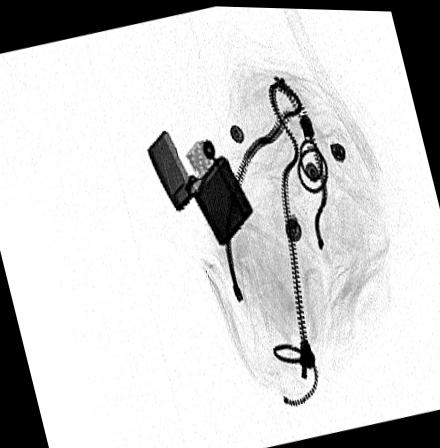Lighter: (146, 125, 254, 243)
